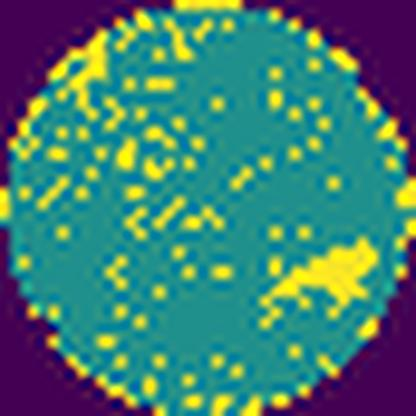Loc: (257, 235, 382, 336)
